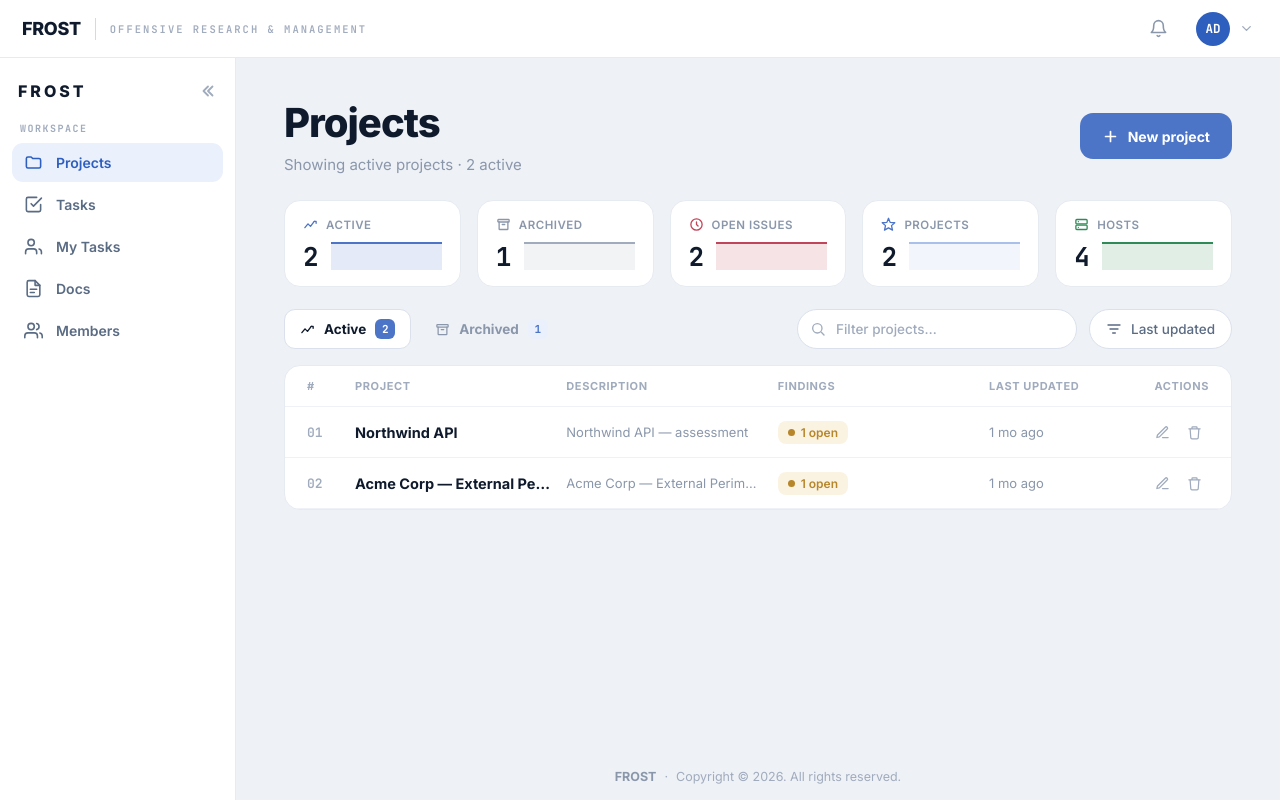
Test: FrostApp (design prototype port) › opens a read-only viewer for a note authored by someone else
The width and height of the screenshot is (1280, 800).
What coordinates should you click on to do the following:
click the text "Northwind API"
I would click on:
 (406, 432)
Its box is x1=355 y1=424 x2=458 y2=440.
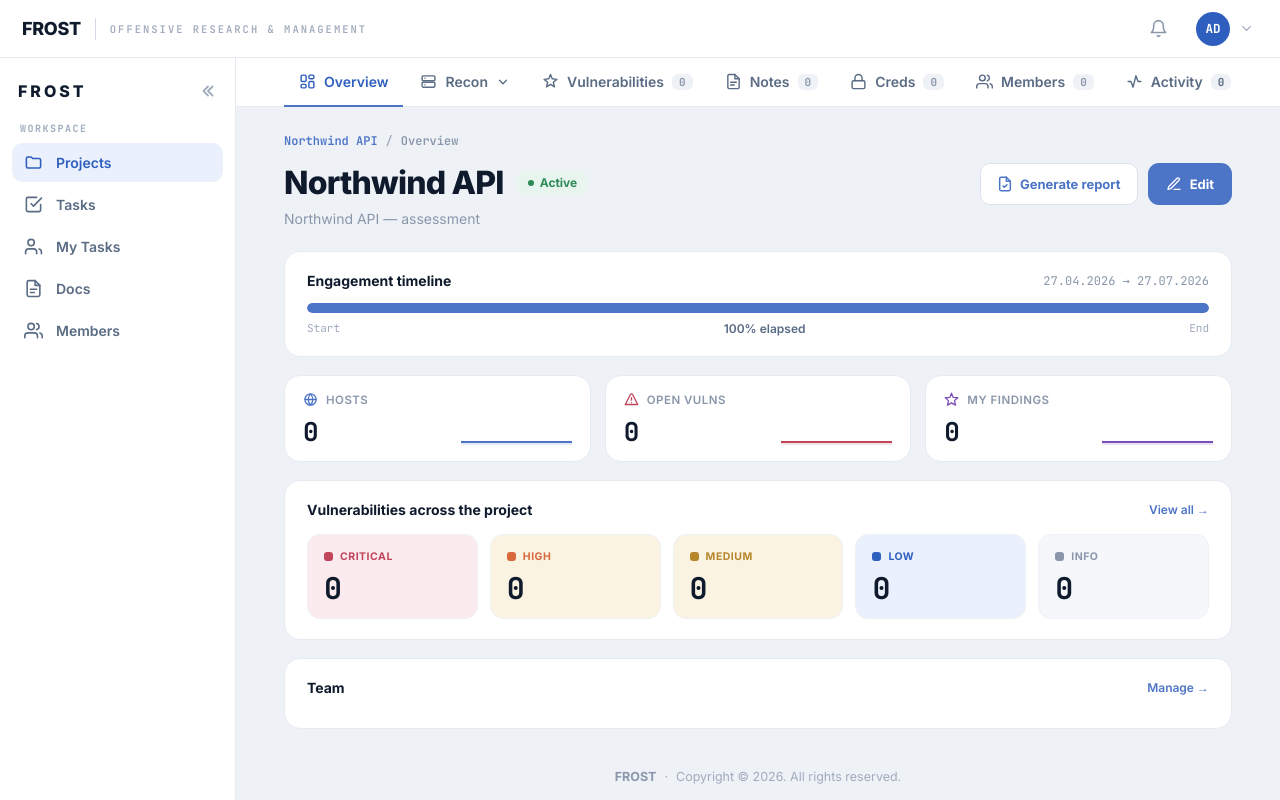
What coordinates should you click on to do the following:
click the text "Notes"
I would click on:
 (771, 82)
Its box is x1=725 y1=73 x2=818 y2=90.
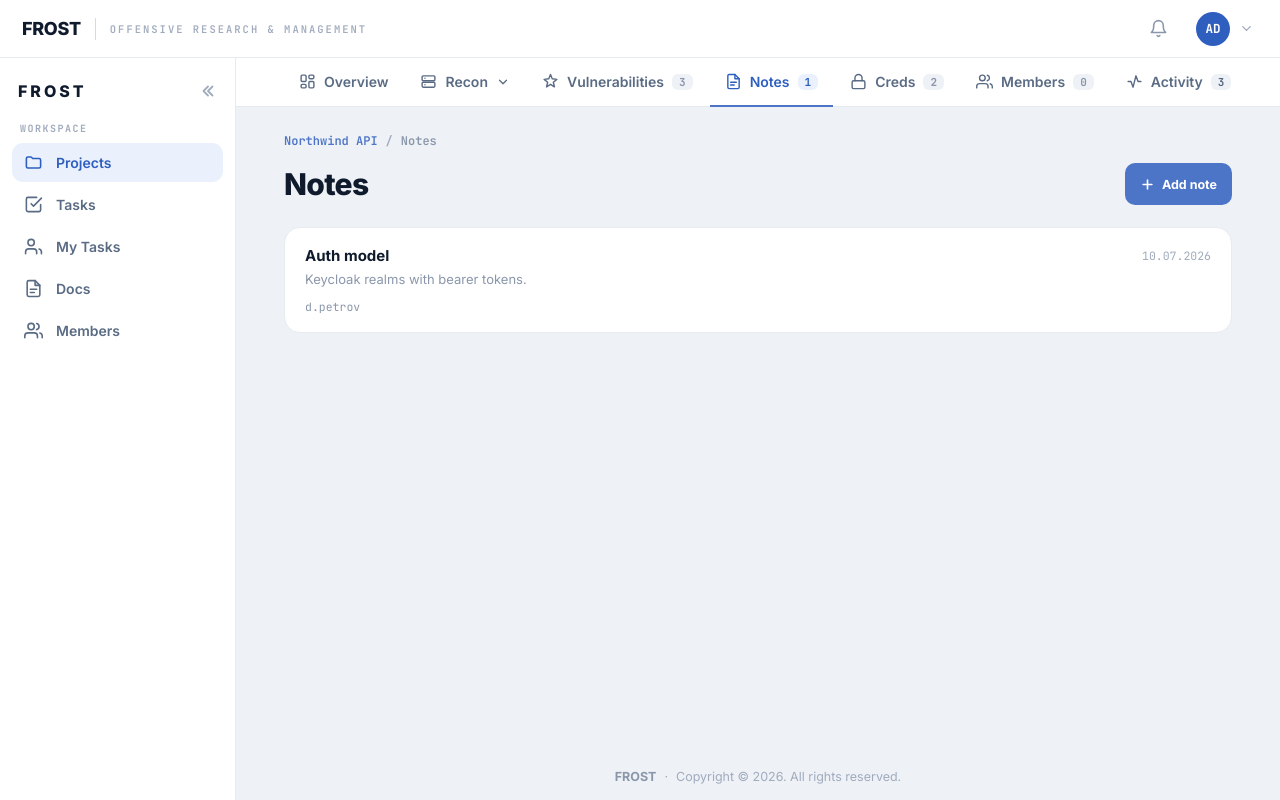
What coordinates should you click on to do the following:
click the text "Auth model"
I would click on:
 (347, 256)
Its box is x1=305 y1=246 x2=389 y2=265.
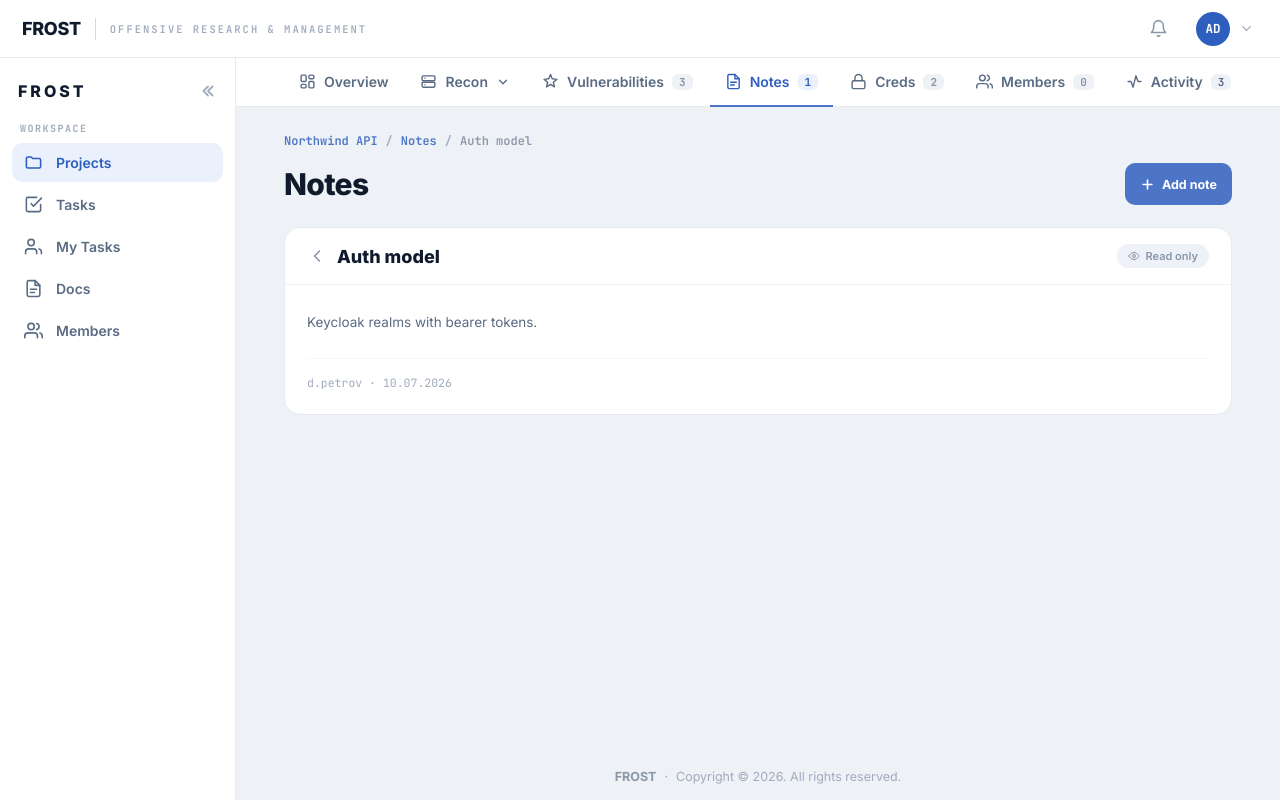
Expected: the text "Read only" is shown, x1=1116 y1=244 x2=1209 y2=268
